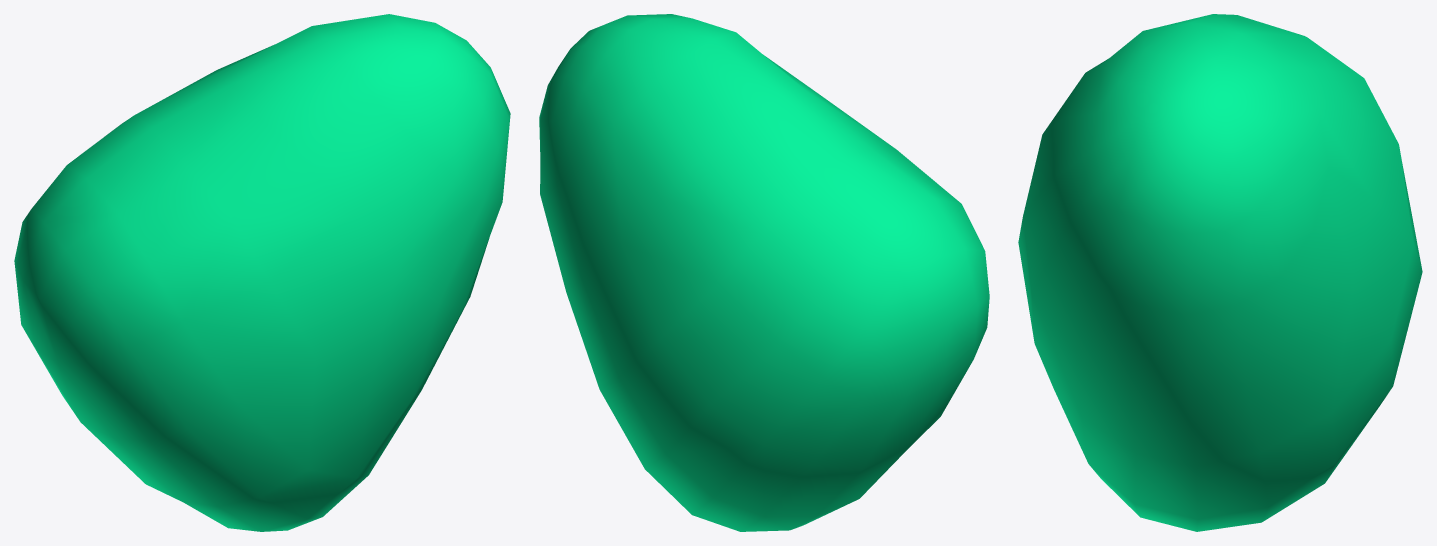
The model's file is rock_balancing_small_03.fbx.
The picture shows the model from 3 angles, left to right: view 1: azimuth 30°, elevation 25°; view 2: azimuth 150°, elevation 25°; view 3: azimuth 270°, elevation 25°; orthographic projection. The views are drawn at different scales.
Parts seen in each view (by area): view 1: rock_balancing_small_03; view 2: rock_balancing_small_03; view 3: rock_balancing_small_03.
Boxes of the visible parts, x1=… form: rock_balancing_small_03: x1=14, y1=14, x2=510, y2=531; rock_balancing_small_03: x1=539, y1=14, x2=989, y2=531; rock_balancing_small_03: x1=1018, y1=14, x2=1422, y2=531.
Size of the model in its own units: 34.26 by 34.59 by 24.02.
